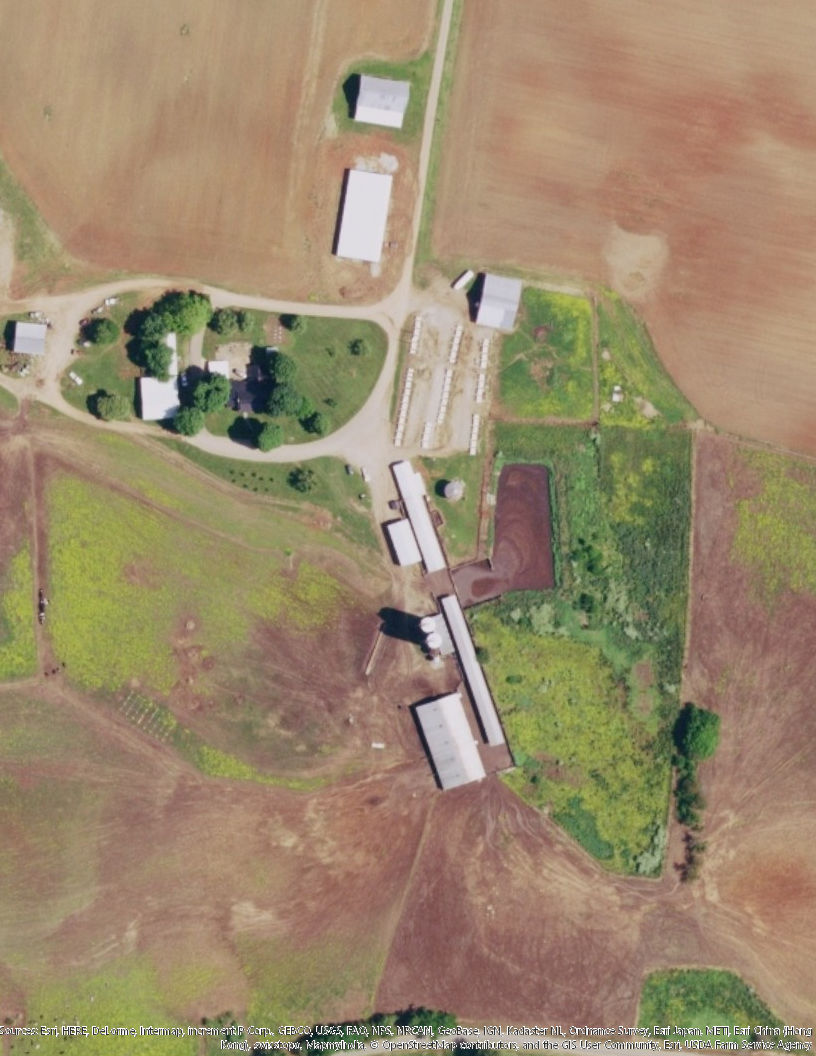cafo: (418, 591, 520, 752), (378, 456, 459, 583), (408, 685, 502, 793), (331, 164, 400, 263)
